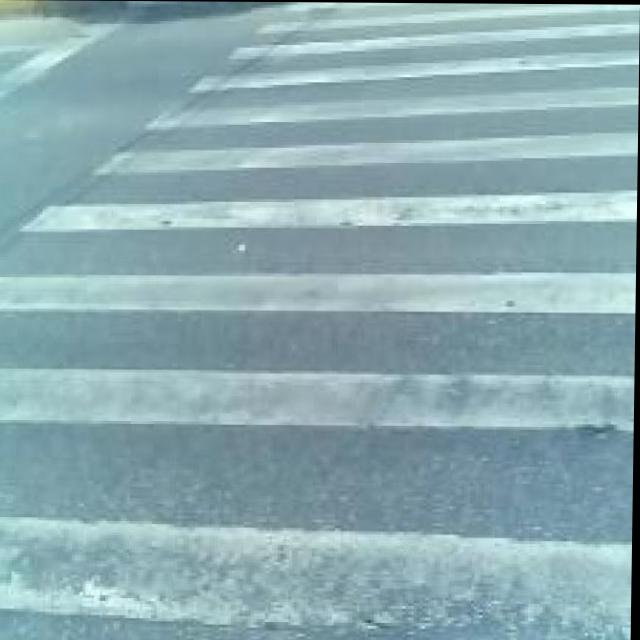zebra: (267, 5, 601, 509)
